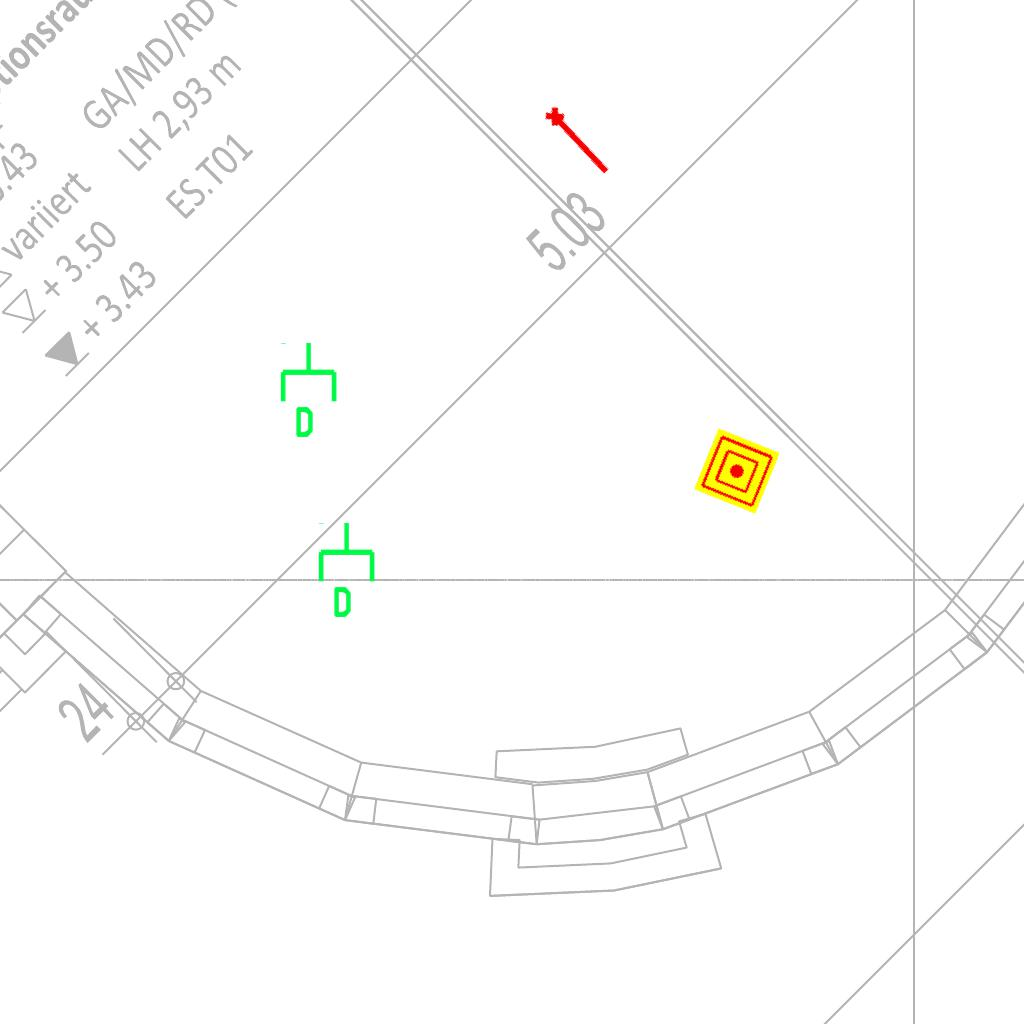ASR_Ansaugoeffnung: (540, 100, 618, 181)
Datenanschluss_einfach: (314, 520, 383, 620), (276, 340, 345, 440)
NAM-Nichtautomatischer_Melder: (694, 428, 780, 514)
